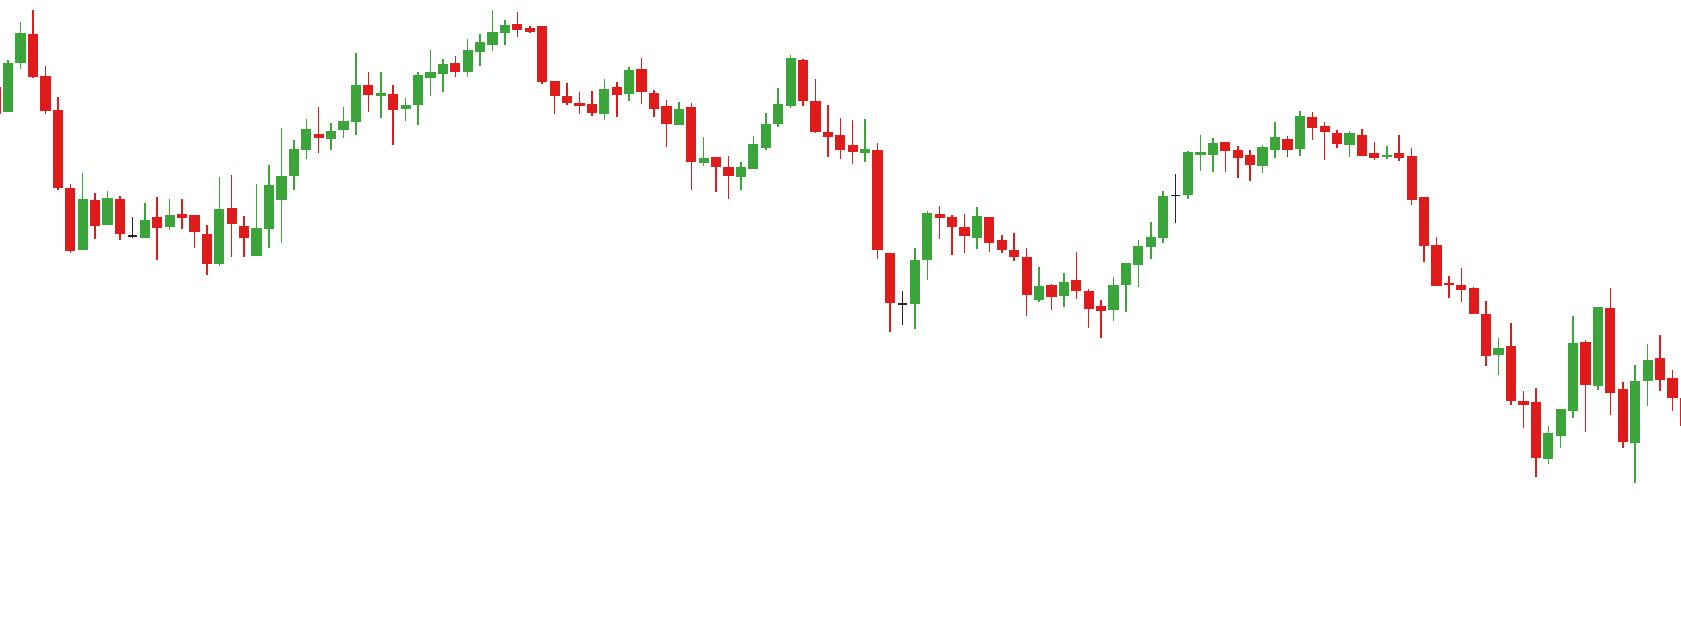sell: (633, 57, 812, 146)
